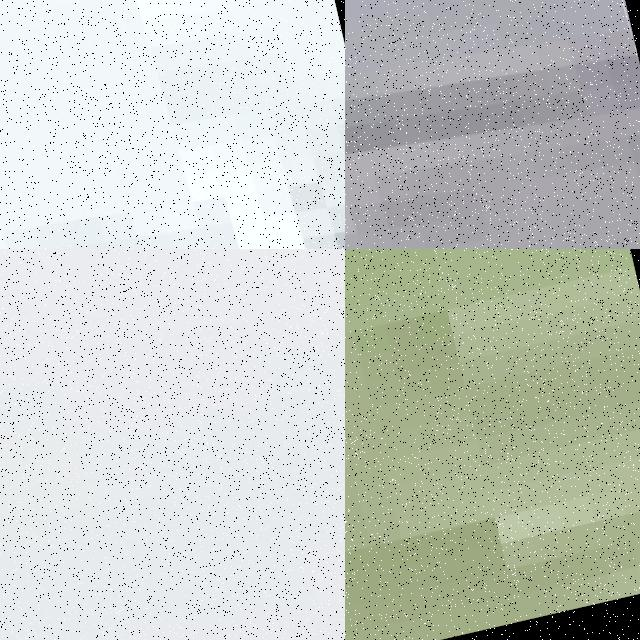0: (0, 0, 345, 249)
drone: (0, 249, 345, 640), (345, 0, 640, 249)
